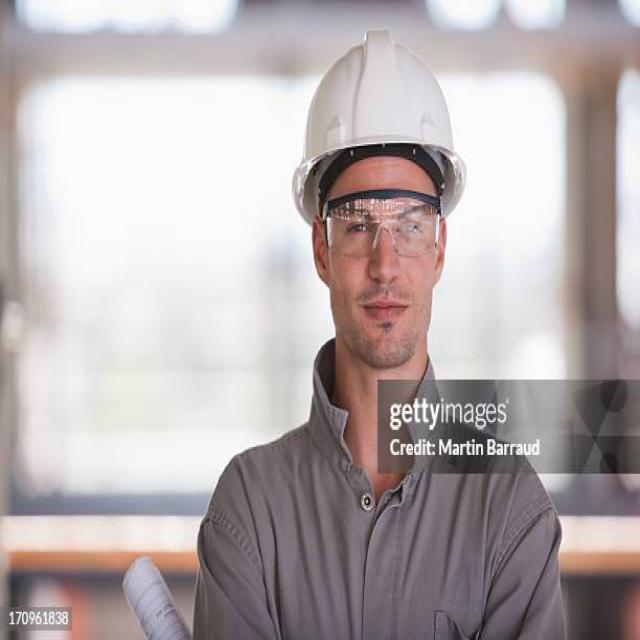helmet: (294, 30, 471, 228)
